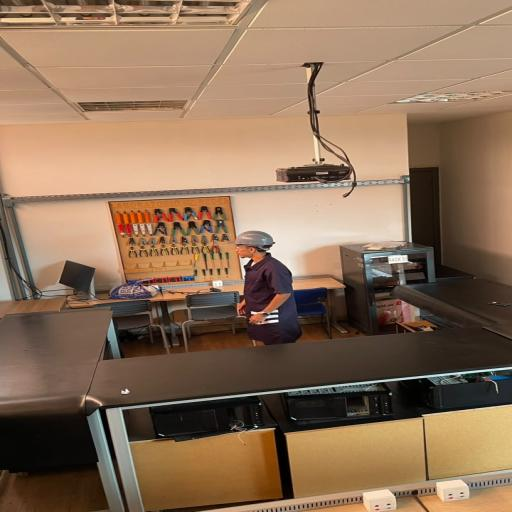CAPACETE: (230, 230, 276, 246)
OCULOS: (234, 247, 250, 251)
